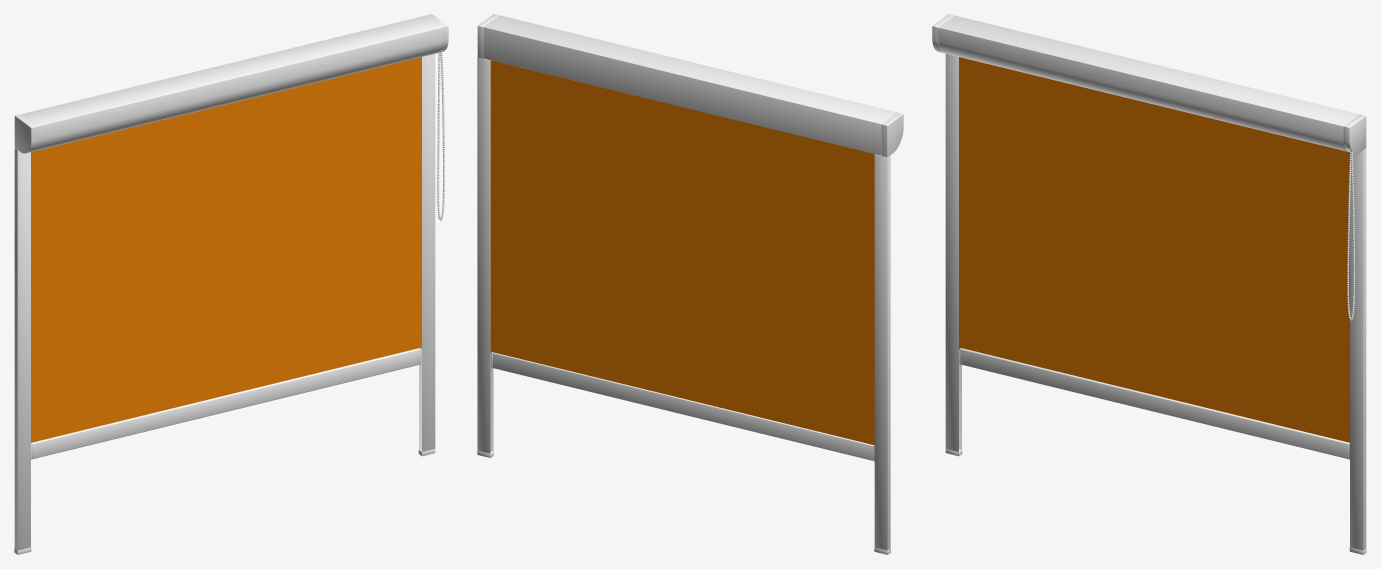
Rendered from Komfortrollo.glb.
3 renders of one model, left to right at view 1: azimuth 30°, elevation 25°; view 2: azimuth 150°, elevation 25°; view 3: azimuth 330°, elevation 25°, orthographic.
Parts seen in each view (by area): view 1: Stoff.001, Cylinder, Cube.001, Cube.004, Cube.005, Sphere, Cylinder.002; view 2: Stoff.001, Cylinder, Cube.001, Cube.004, Cube.005, Cylinder.002; view 3: Stoff.001, Cylinder, Cube.004, Cube.005, Cube.001, Sphere, Cylinder.001.
Part boxes in pixels (<box>): Stoff.001: <box>31,57,421,442</box>; Cylinder: <box>21,15,442,151</box>; Cube.001: <box>14,148,30,550</box>; Cube.004: <box>31,348,419,459</box>; Cube.005: <box>419,54,435,451</box>; Sphere: <box>437,50,444,220</box>; Cylinder.002: <box>14,114,37,153</box>; Stoff.001: <box>490,60,874,445</box>; Cylinder: <box>483,15,897,155</box>; Cube.001: <box>874,154,890,550</box>; Cube.004: <box>493,352,873,460</box>; Cube.005: <box>477,57,493,453</box>; Cylinder.002: <box>881,112,903,157</box>; Stoff.001: <box>959,57,1349,442</box>; Cylinder: <box>938,15,1359,151</box>; Cube.004: <box>961,348,1349,459</box>; Cube.005: <box>1350,148,1366,550</box>; Cube.001: <box>945,54,961,451</box>; Sphere: <box>1347,150,1355,320</box>; Cylinder.001: <box>1343,114,1366,153</box>.
Size of the model in its own units: 1 by 0.9998 by 0.0697.
Materials: 3 (1 with a texture image).
